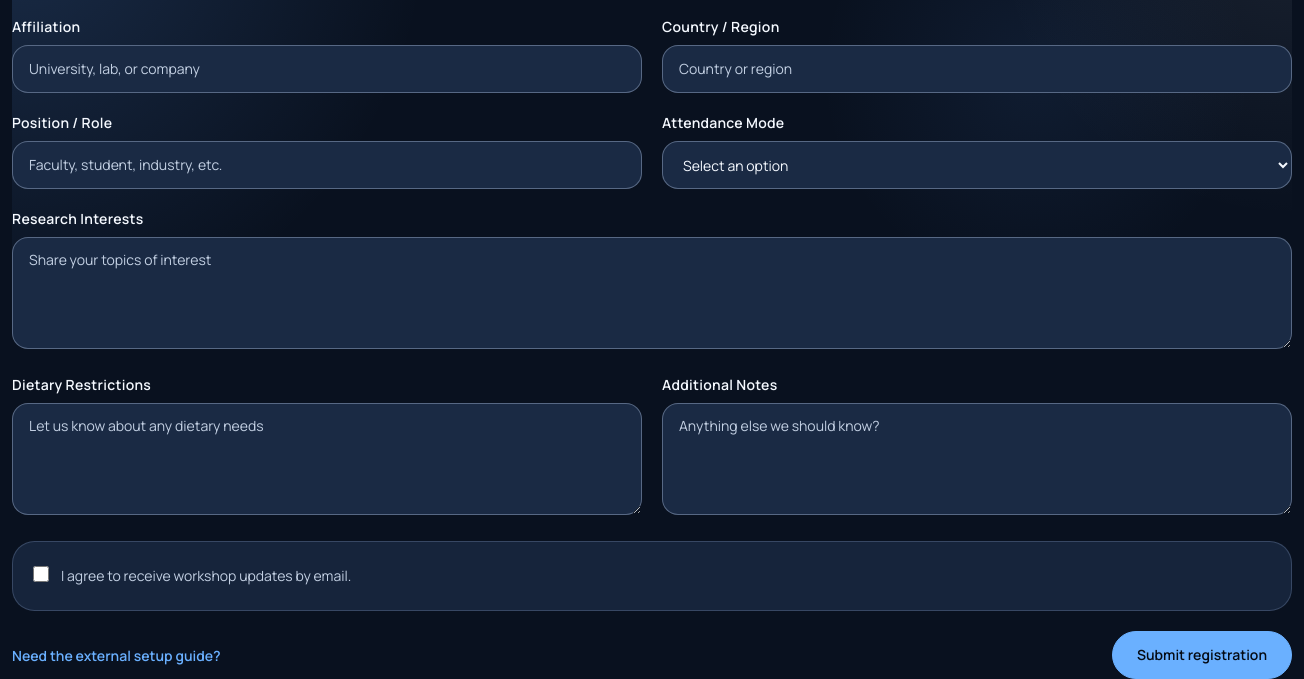
Test: RegistrationForm › shows validation errors when the user submits an incomplete form
(page scrolled)
Click the button "Submit registration".
click(1202, 655)  # box [1112,631,1292,678]
(page scrolled)
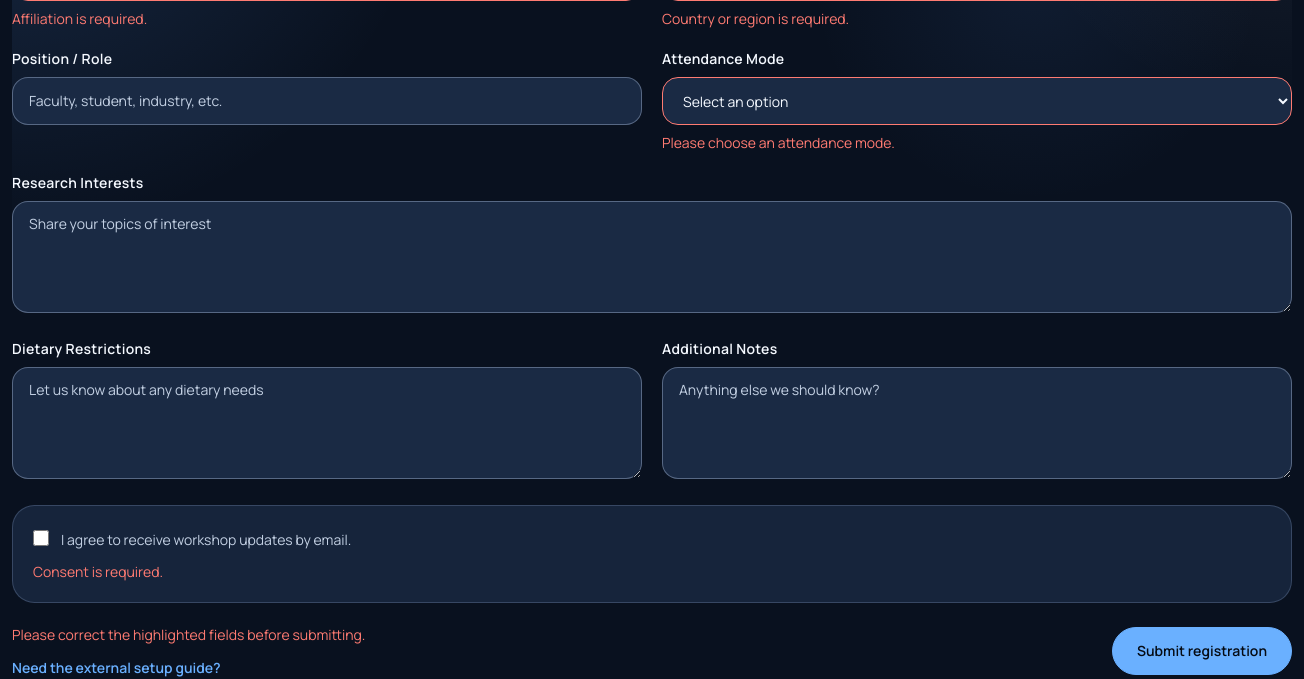
Expected: the text "Consent is required." is shown, [33,562,163,581]
